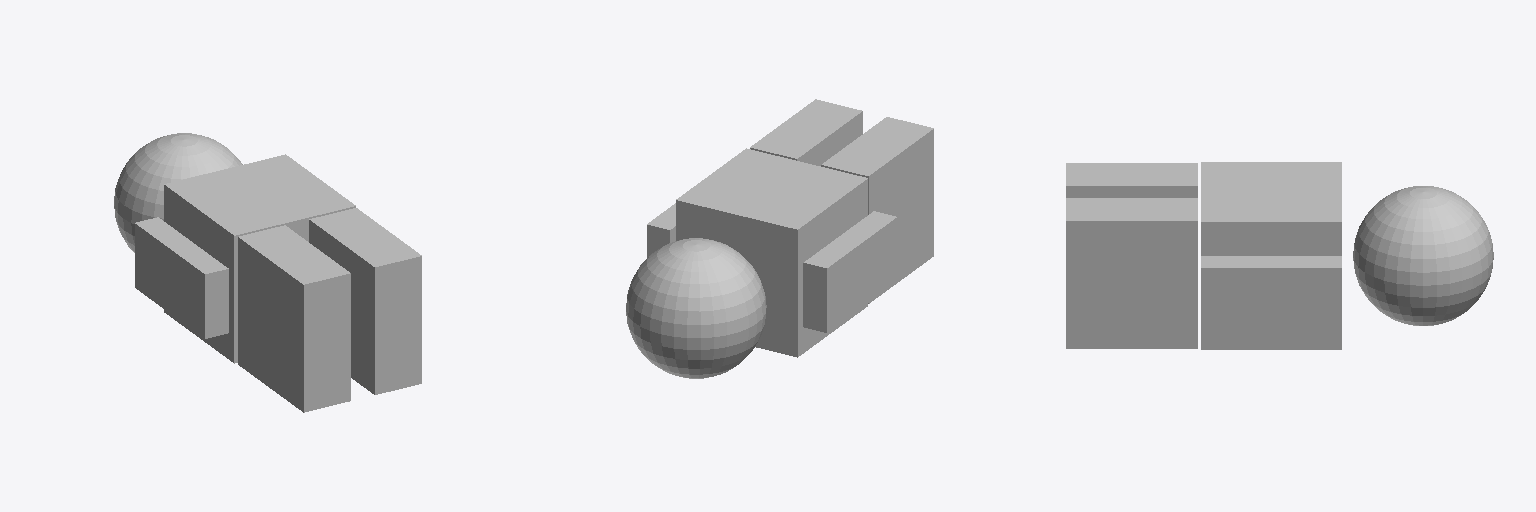
Rendered from sporty_robot_animation_000002.obj.
3 views of the same model, side by side, from view 1: azimuth 30°, elevation 25°; view 2: azimuth 150°, elevation 25°; view 3: azimuth 270°, elevation 25° (orthographic).
Visible parts, largest first — view 1: Cube.002, Cube.001_Cube.005, Cube, Cube.004, Sphere.001; view 2: Cube, Sphere.001, Cube.002, Cube.004, Cube.001_Cube.005, Cube.003; view 3: Cube.001_Cube.005, Cube, Sphere.001, Cube.003, Cube.002.
Boxes of the visible parts, box(x1,y1,x2,y2) form: Cube.002: box(238, 225, 350, 412); Cube.001_Cube.005: box(309, 208, 421, 394); Cube: box(164, 154, 355, 363); Cube.004: box(135, 217, 228, 338); Sphere.001: box(114, 133, 242, 252); Cube: box(676, 148, 867, 357); Sphere.001: box(626, 238, 766, 378); Cube.002: box(821, 117, 933, 303); Cube.004: box(803, 211, 897, 332); Cube.001_Cube.005: box(750, 99, 862, 165); Cube.003: box(647, 203, 675, 257); Cube.001_Cube.005: box(1066, 198, 1197, 348); Cube: box(1201, 162, 1341, 349); Sphere.001: box(1353, 186, 1493, 325); Cube.003: box(1201, 256, 1341, 331); Cube.002: box(1066, 163, 1197, 197).
Bounding box in the file's own units: 0.76 × 0.514 × 1.56.